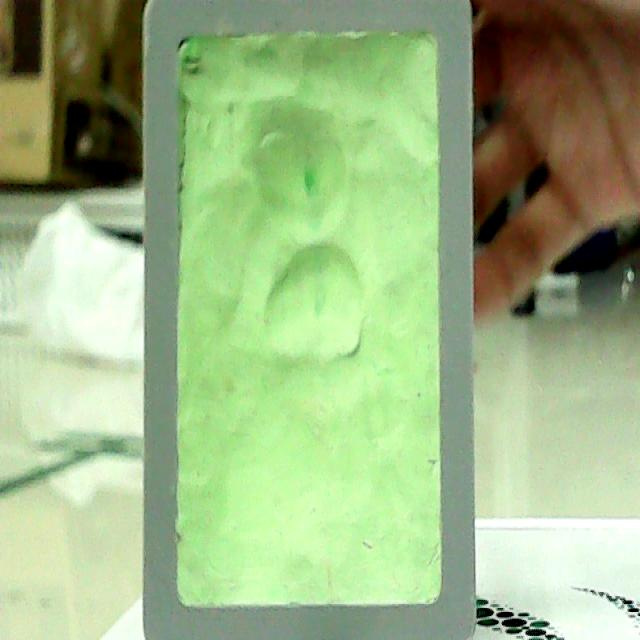block: (136, 0, 487, 640)
